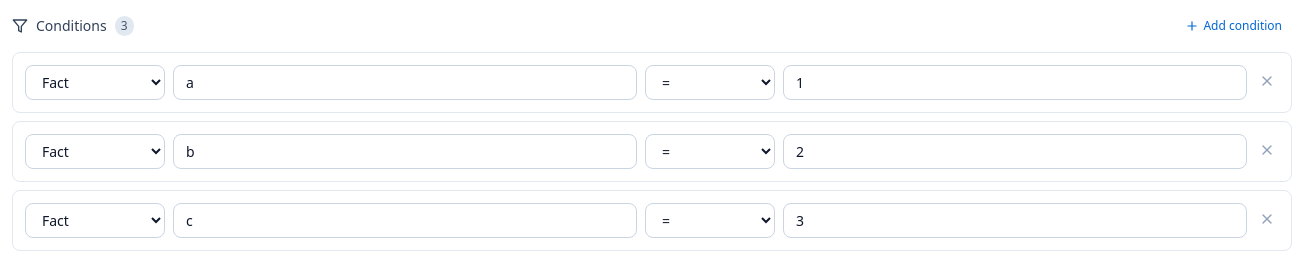
ConditionBuilder › removing conditions › removes only the targeted row
Click the 2nd button titled "Remove condition".
click(1267, 150)  # box [1255,138,1279,162]
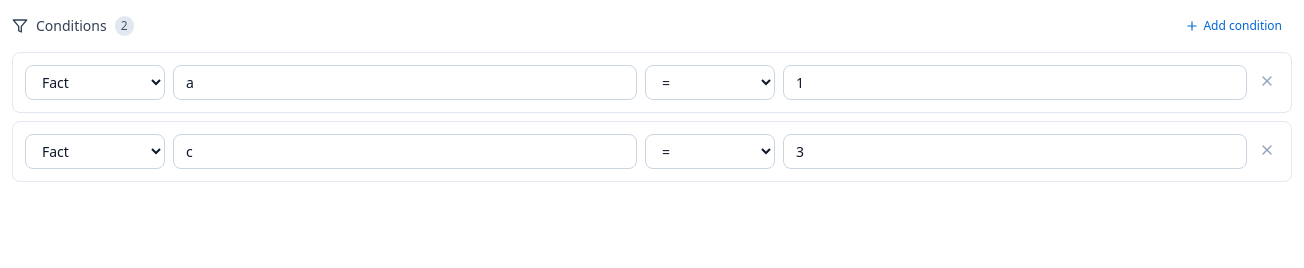
expect the number of buttons titled "Remove condition" is 2: met, box [1255,69,1279,93]; [1255,138,1279,162]
